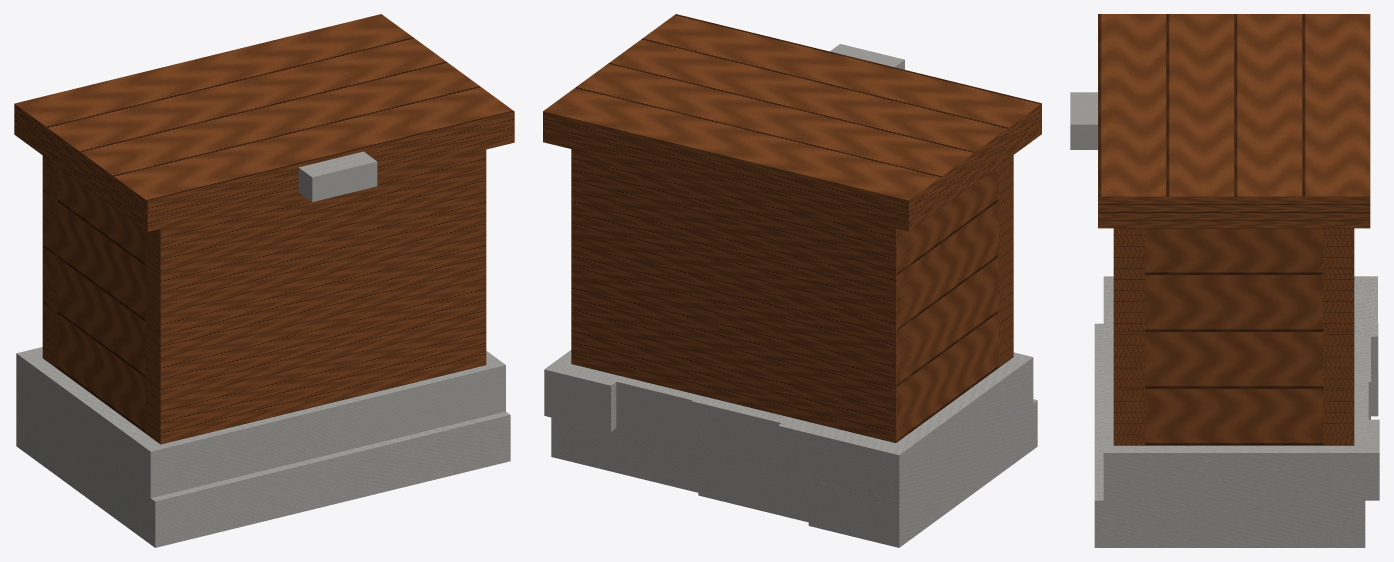
The model's file is andean-terraces-and-stone-village-storage-chest-38f42a4e__38275.glb.
The picture shows the model from 3 angles, left to right: view 1: azimuth 30°, elevation 25°; view 2: azimuth 150°, elevation 25°; view 3: azimuth 270°, elevation 25°; orthographic projection. The views are drawn at different scales.
Visible parts, largest first — view 1: storage-chest-timber, lid/timber, storage-chest-stone, lid/stone; view 2: storage-chest-timber, lid/timber, storage-chest-stone, lid/stone; view 3: lid/timber, storage-chest-timber, storage-chest-stone, lid/stone.
Boxes of the visible parts, bbox=[...] form: storage-chest-timber: bbox=[42, 149, 486, 444]; lid/timber: bbox=[14, 14, 514, 231]; storage-chest-stone: bbox=[16, 347, 510, 547]; lid/stone: bbox=[298, 151, 377, 201]; storage-chest-timber: bbox=[571, 149, 1013, 442]; lid/timber: bbox=[543, 14, 1041, 231]; storage-chest-stone: bbox=[544, 350, 1037, 547]; lid/stone: bbox=[830, 44, 904, 69]; lid/timber: bbox=[1098, 14, 1370, 228]; storage-chest-timber: bbox=[1113, 228, 1354, 445]; storage-chest-stone: bbox=[1094, 276, 1379, 547]; lid/stone: bbox=[1070, 92, 1097, 149].
Bounding box in the file's own units: 1.24 × 1.12 × 0.8876.
2 materials, 2 textured.
